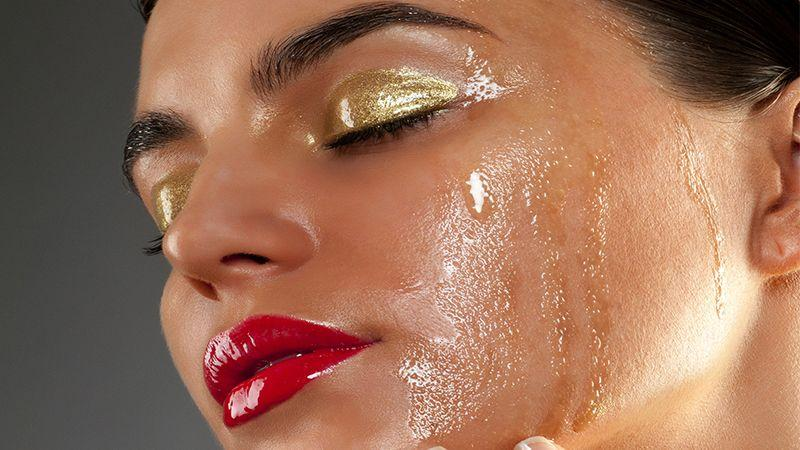Oily-Skin: (409, 136, 529, 450), (196, 38, 235, 134), (276, 200, 325, 244), (147, 69, 185, 108), (248, 104, 269, 134)
